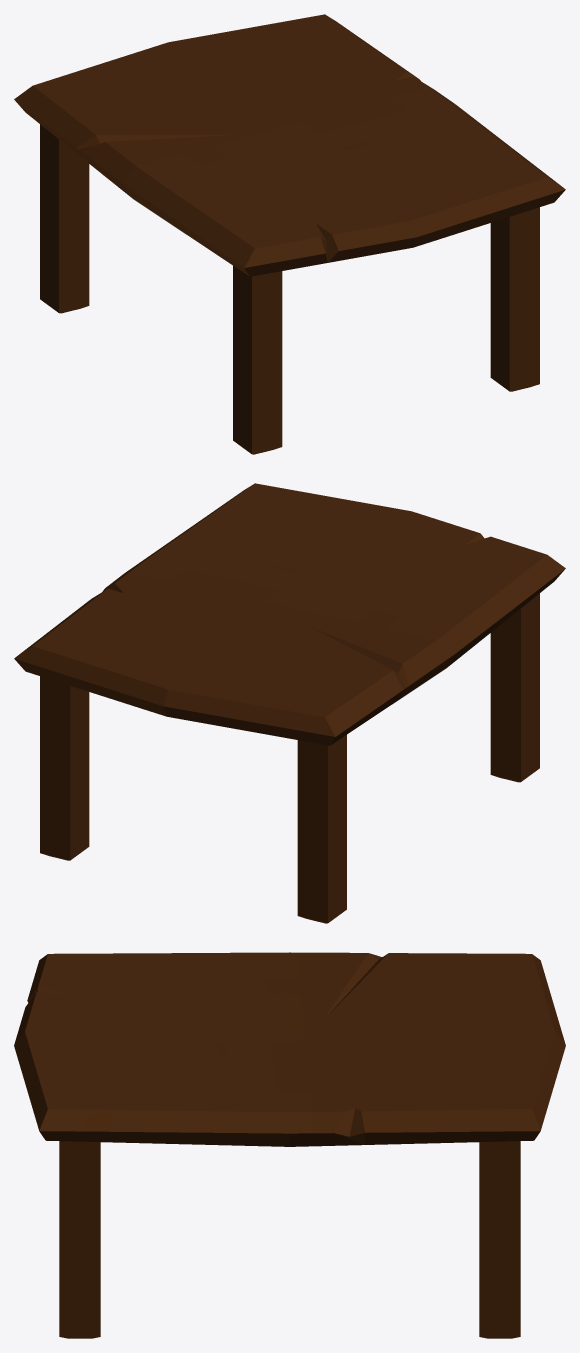
Rendered from table.fbx.
3 renders of one model, top to bottom at view 1: azimuth 30°, elevation 25°; view 2: azimuth 150°, elevation 25°; view 3: azimuth 270°, elevation 25°, orthographic. The views are drawn at different scales.
Parts seen in each view (by area): view 1: Cube, Cube.001; view 2: Cube, Cube.001; view 3: Cube, Cube.001.
Boxes of the visible parts, box(x1,y1,x2,y2) form: Cube: box(14, 14, 565, 276); Cube.001: box(40, 124, 539, 454); Cube: box(14, 483, 565, 745); Cube.001: box(40, 593, 539, 923); Cube: box(14, 952, 565, 1146); Cube.001: box(59, 1141, 520, 1338).
Bounding box in the file's own units: 713 × 442 × 947.
1 material, 1 textured.
